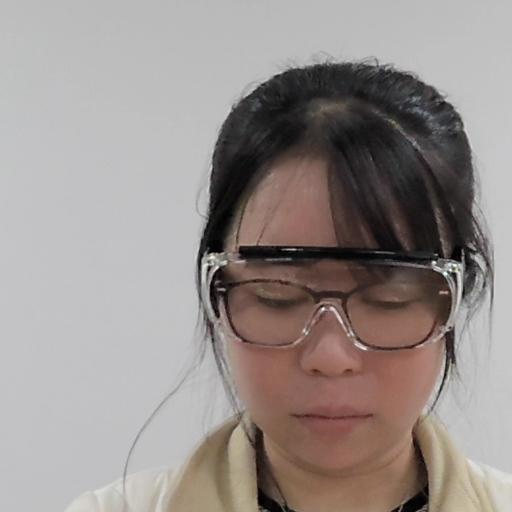glasses: (197, 60, 484, 467)
